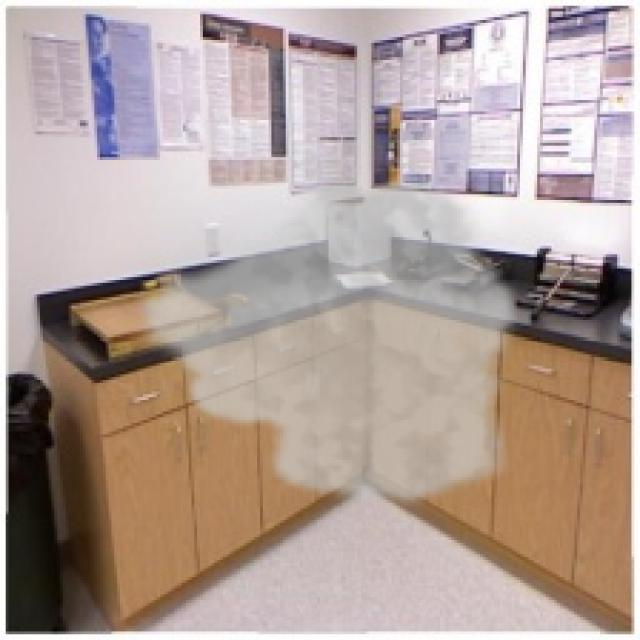Smoke: (131, 166, 523, 512)
